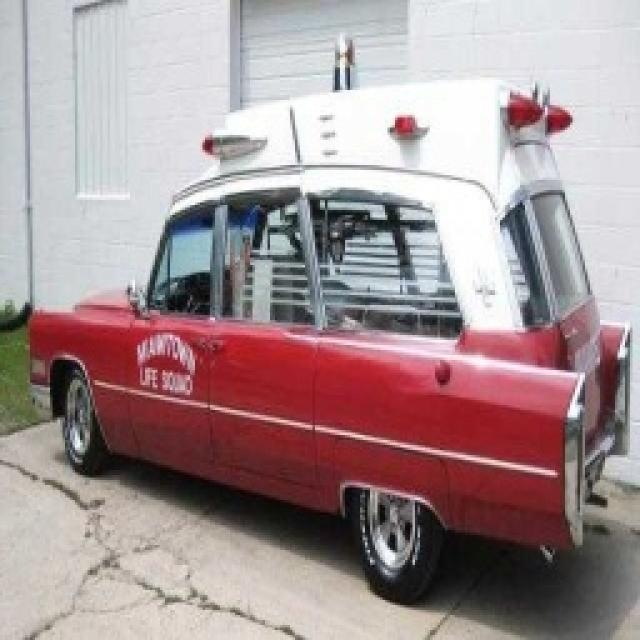ambulance: (30, 78, 630, 600)
